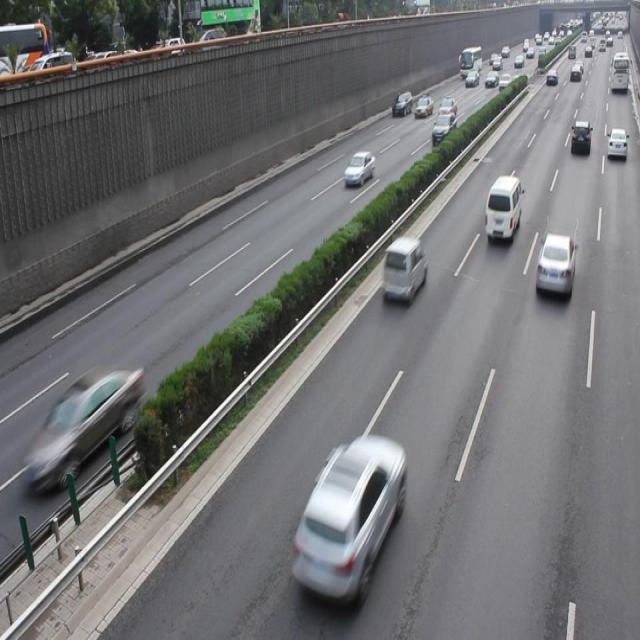car: (290, 430, 404, 600), (24, 364, 146, 486), (381, 234, 426, 297), (533, 233, 574, 298), (343, 151, 374, 186)
truck: (484, 176, 520, 241)
